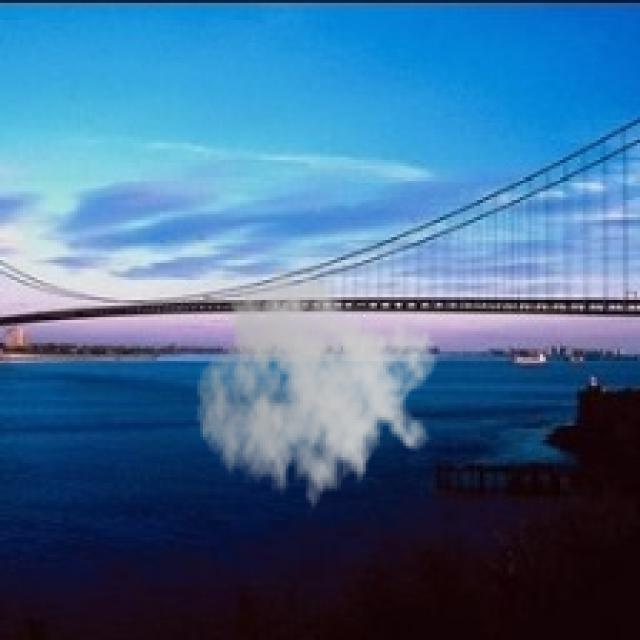Smoke: (194, 263, 440, 523)
